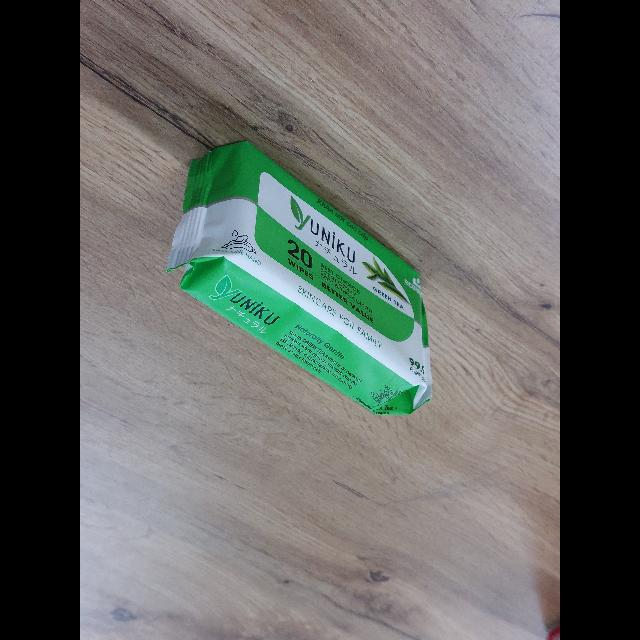khan_giay: (168, 142, 432, 415)
